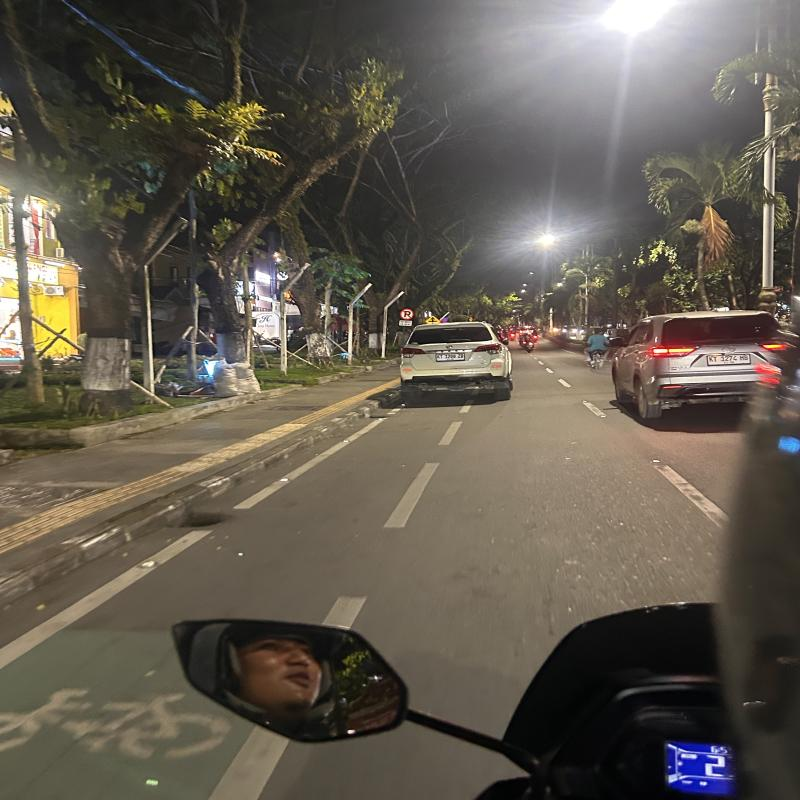license plate on a car: (706, 354, 753, 365), (437, 352, 467, 362)
